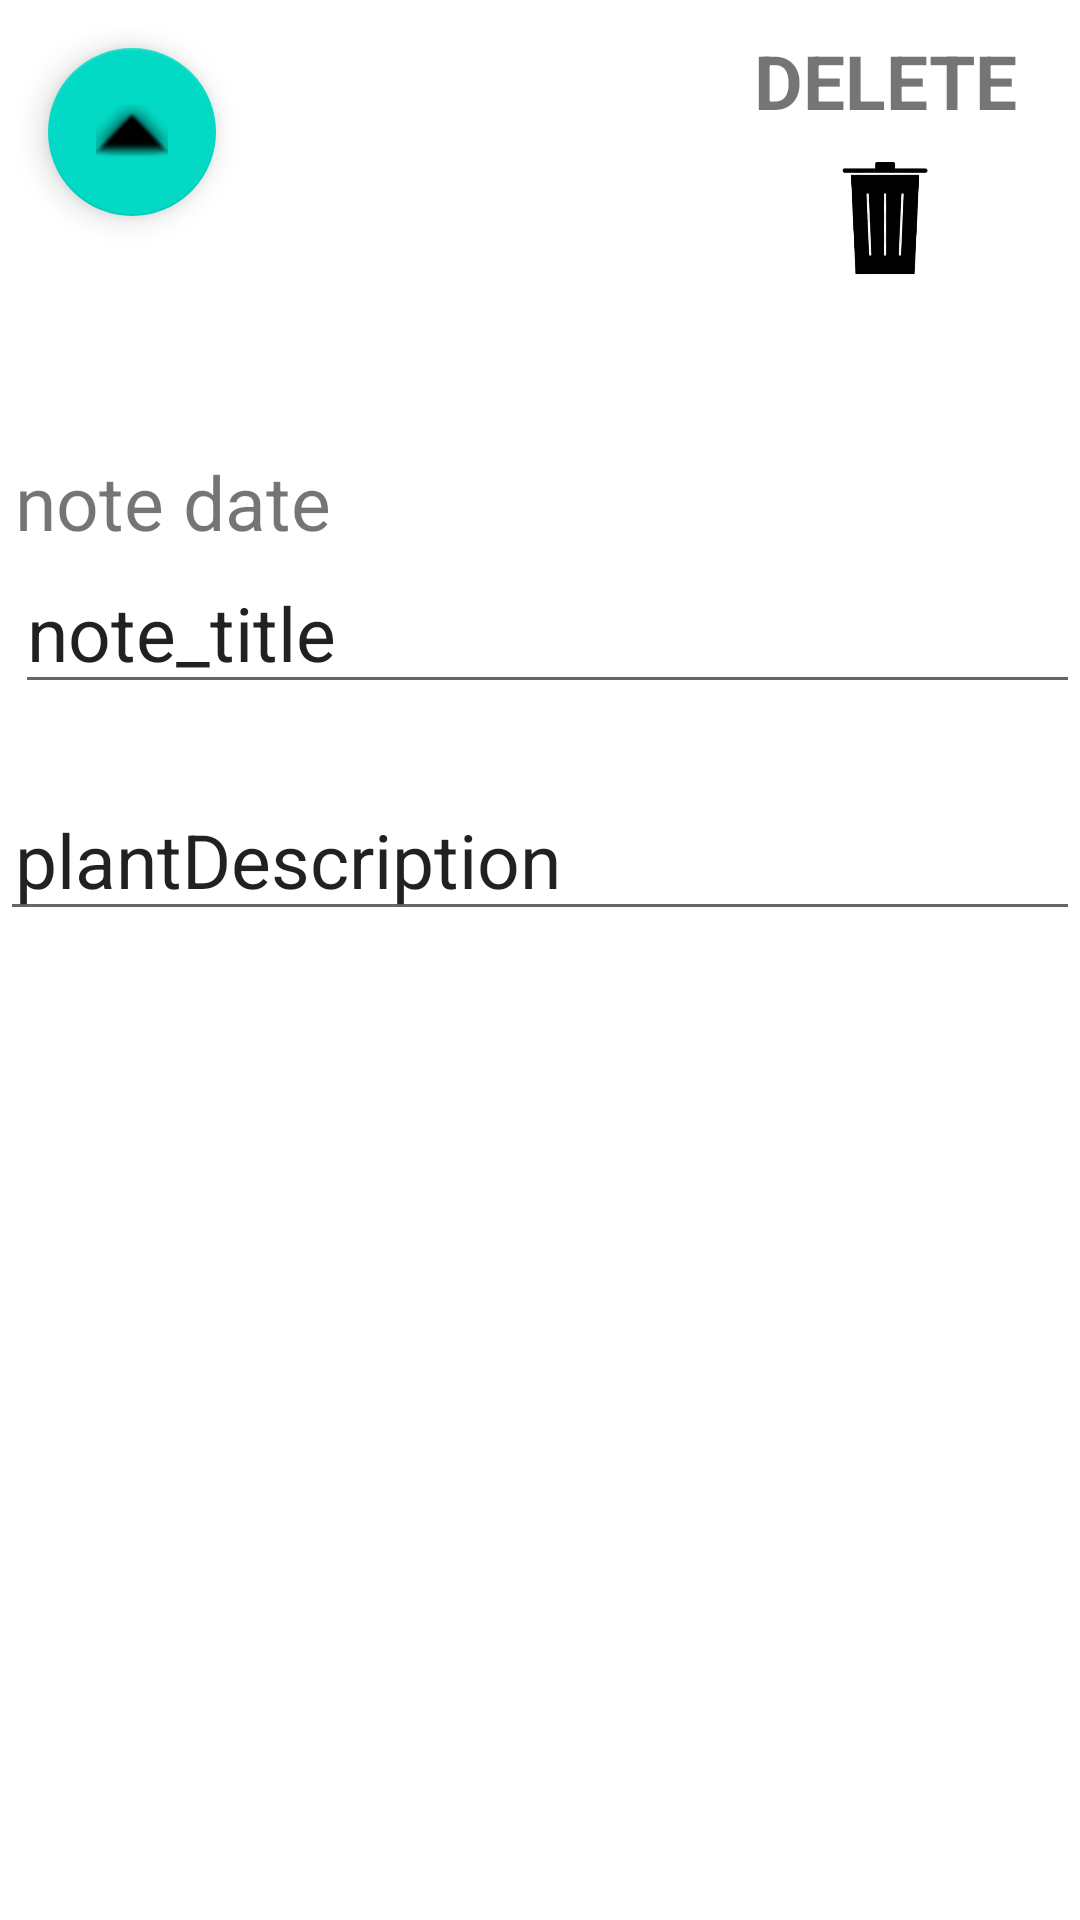

Where to tap for icons on this 1080px×1920px app screen, as (x,y):
arrow up float: (132,132)
trash: (885,218)
